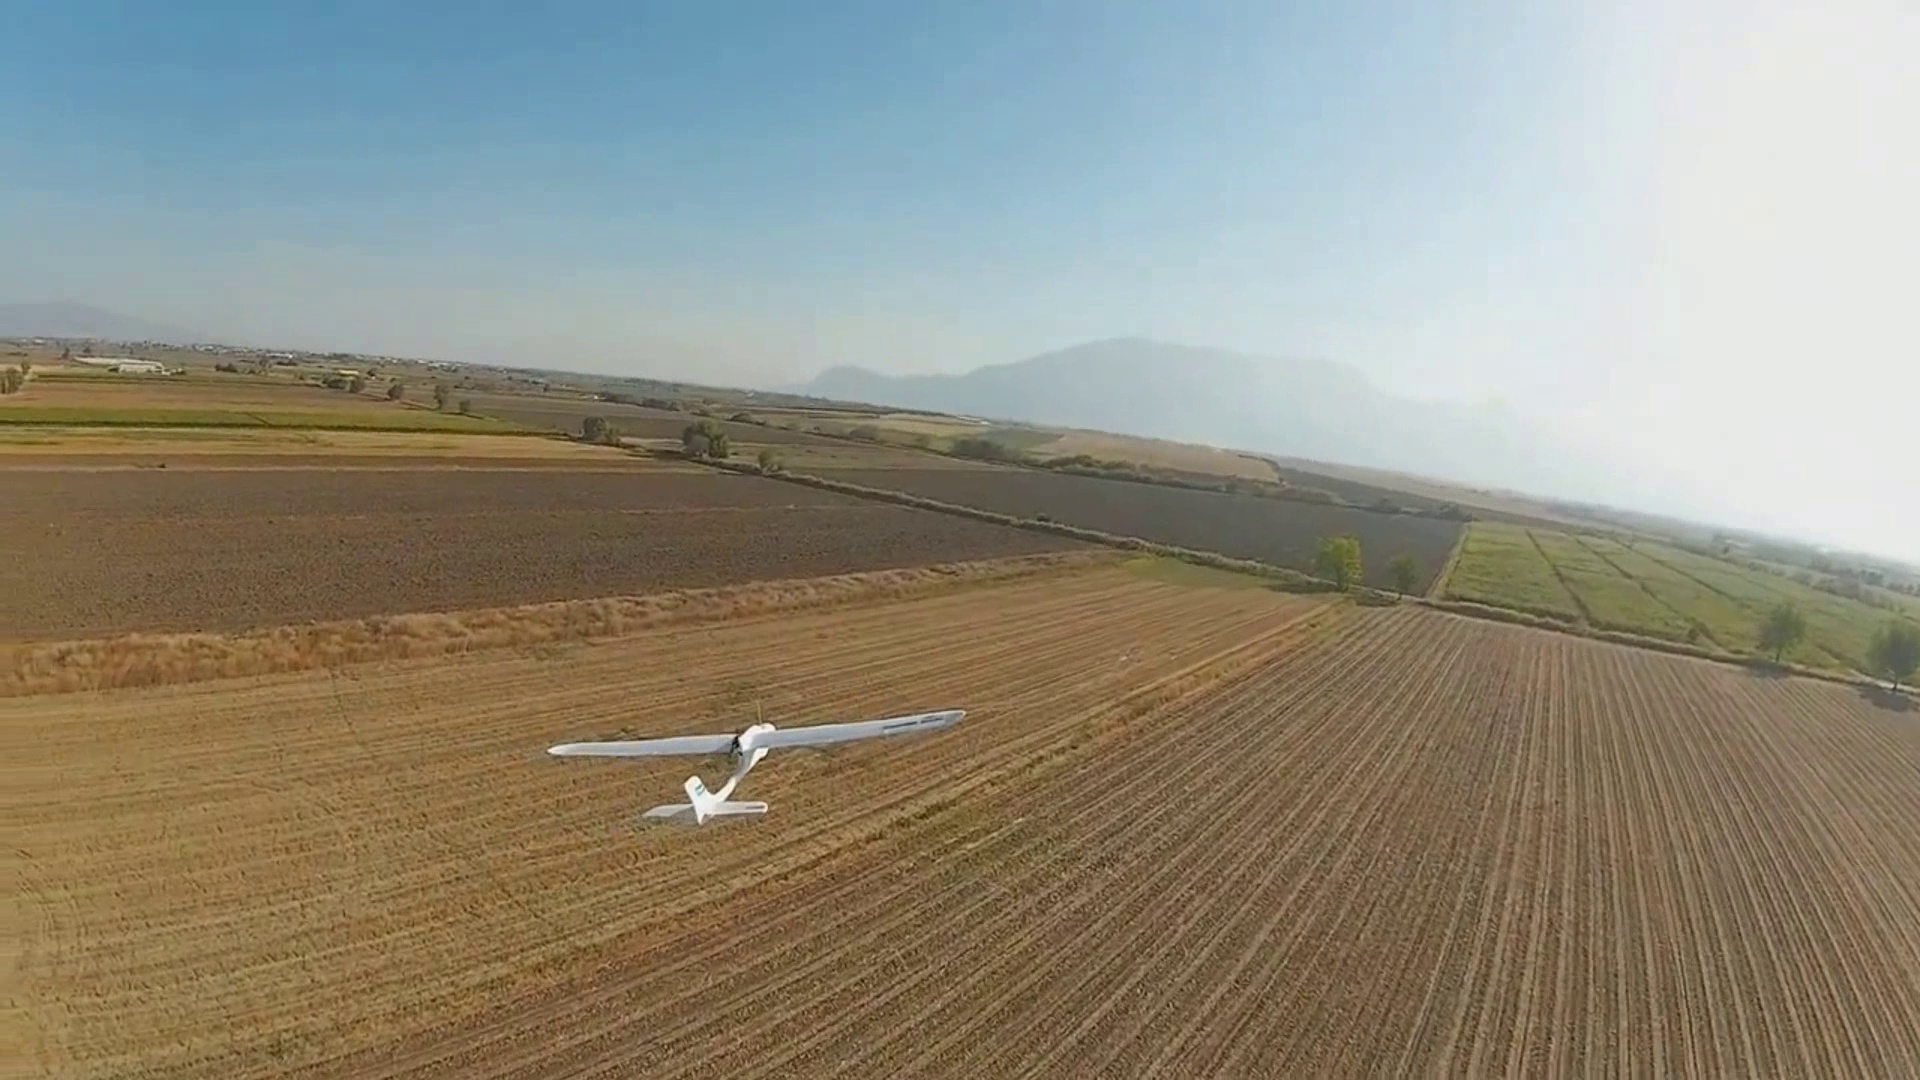airplane: (545, 711, 967, 825)
